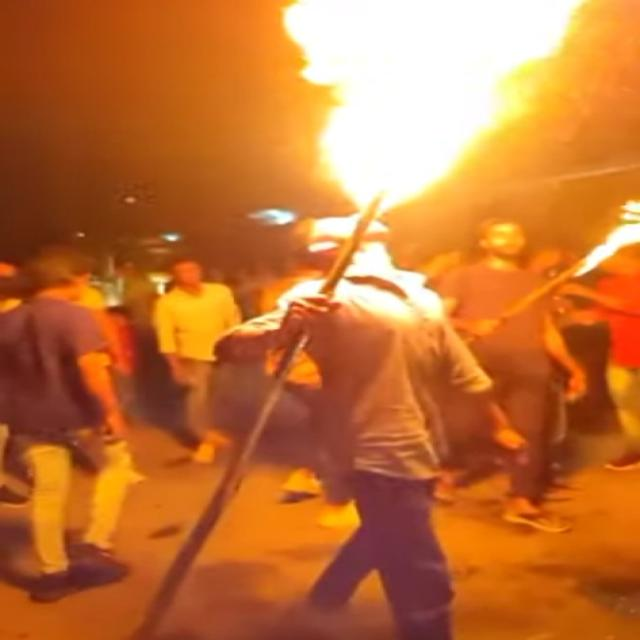fire: (317, 87, 527, 210), (284, 0, 581, 86)
